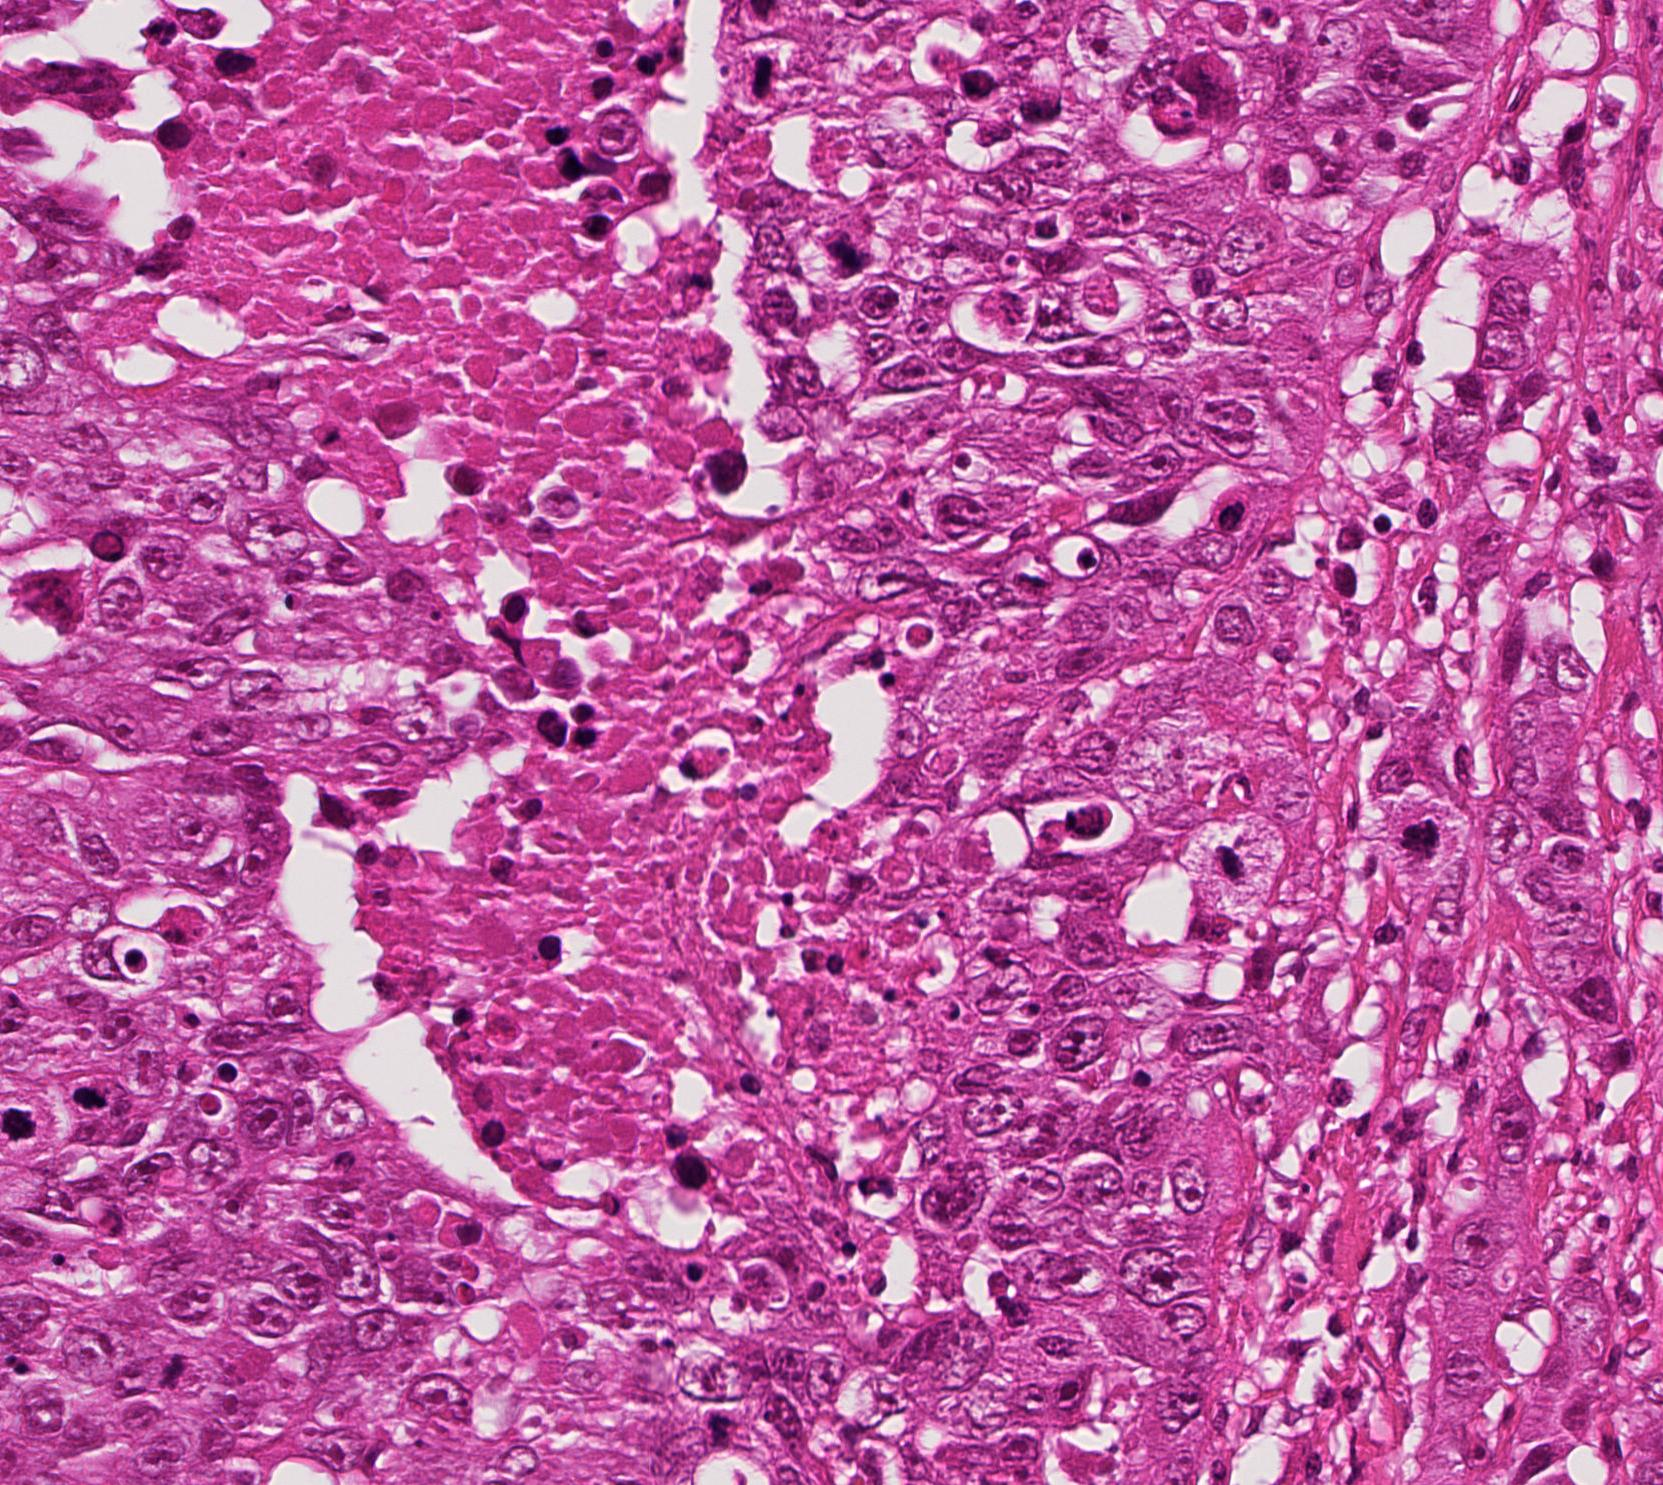mitosis: (1392, 808, 1452, 869), (153, 1336, 214, 1396), (62, 1061, 122, 1119)
